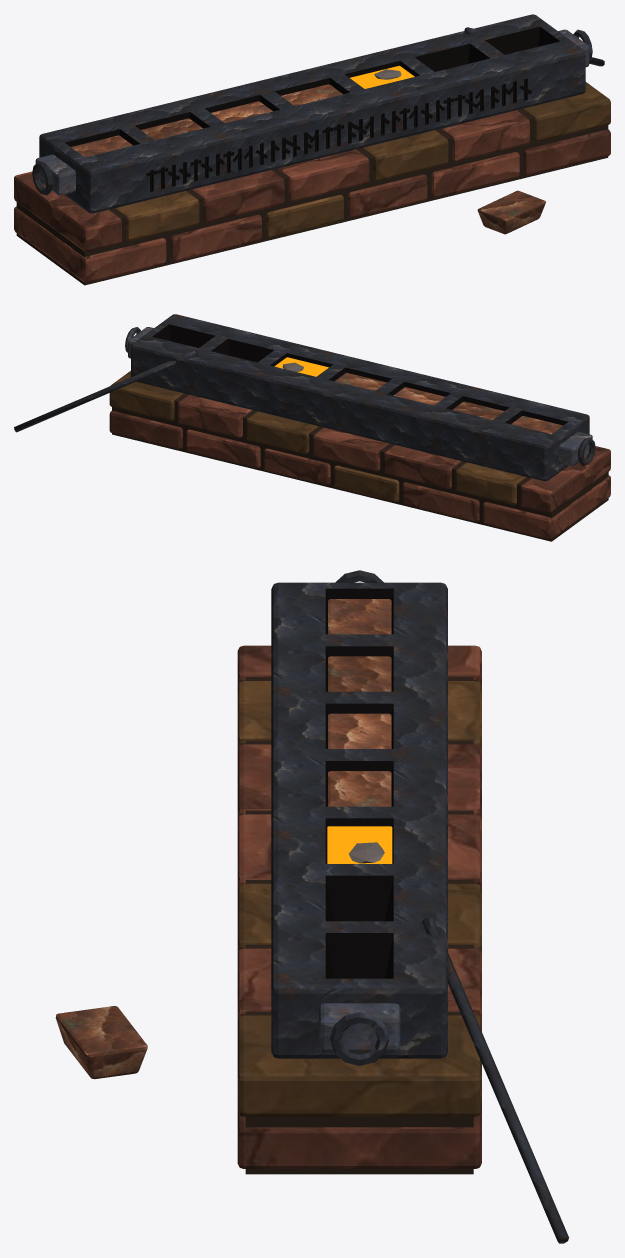
File: cf_ingot_mould_row.glb
The picture shows the model from 3 angles, top to bottom: view 1: azimuth 30°, elevation 25°; view 2: azimuth 150°, elevation 25°; view 3: azimuth 270°, elevation 25°; orthographic projection. The views are drawn at different scales.
Visible parts, largest first — view 1: model; view 2: model; view 3: model.
Part boxes in pixels (x1,y1,x2,y2): model: [14, 14, 610, 285]; model: [14, 314, 610, 541]; model: [55, 570, 568, 1243].
Bounding box in the file's own units: 1.78 × 0.3038 × 0.7563.
Materials: 14 (10 with a texture image).
